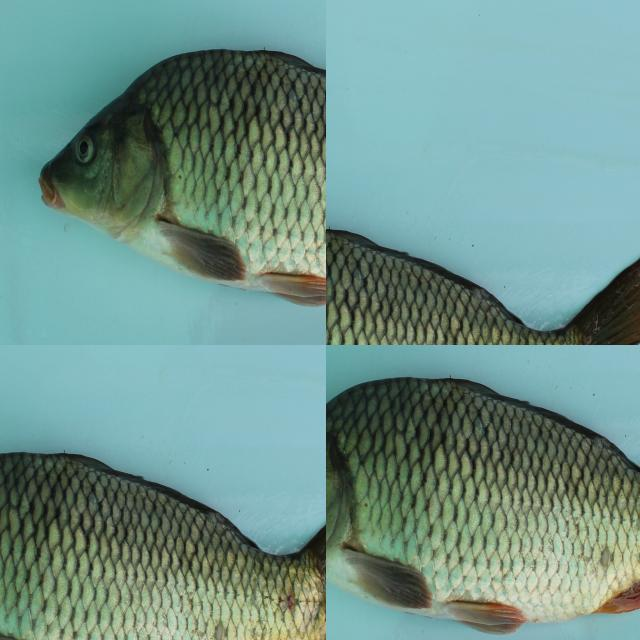fish: (326, 345, 640, 638)
